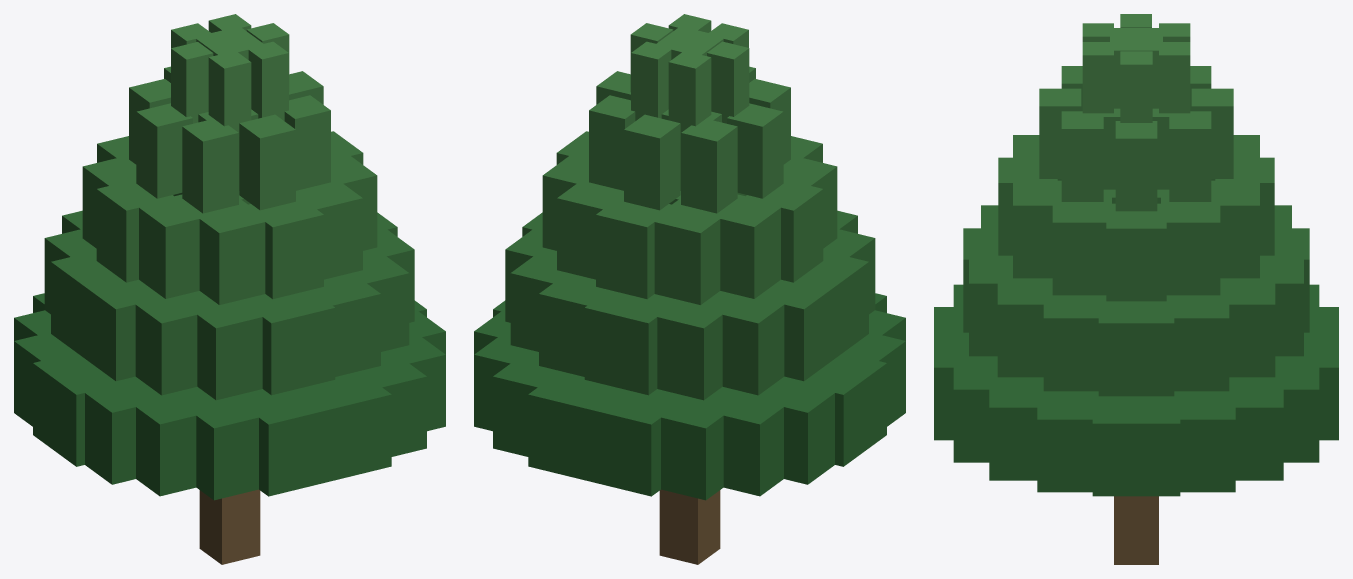
Rendered from tree_spire_1.glb.
3 renders of one model, left to right at view 1: azimuth 30°, elevation 25°; view 2: azimuth 150°, elevation 25°; view 3: azimuth 270°, elevation 25°, orthographic.
Parts seen in each view (by area): view 1: body; view 2: body; view 3: body.
Boxes of the visible parts, x1,y1,x2,y2 form: body: (14, 14, 445, 564); body: (474, 14, 905, 564); body: (934, 14, 1338, 564).
Size of the model in its own units: 5.86 by 8.16 by 5.8.
